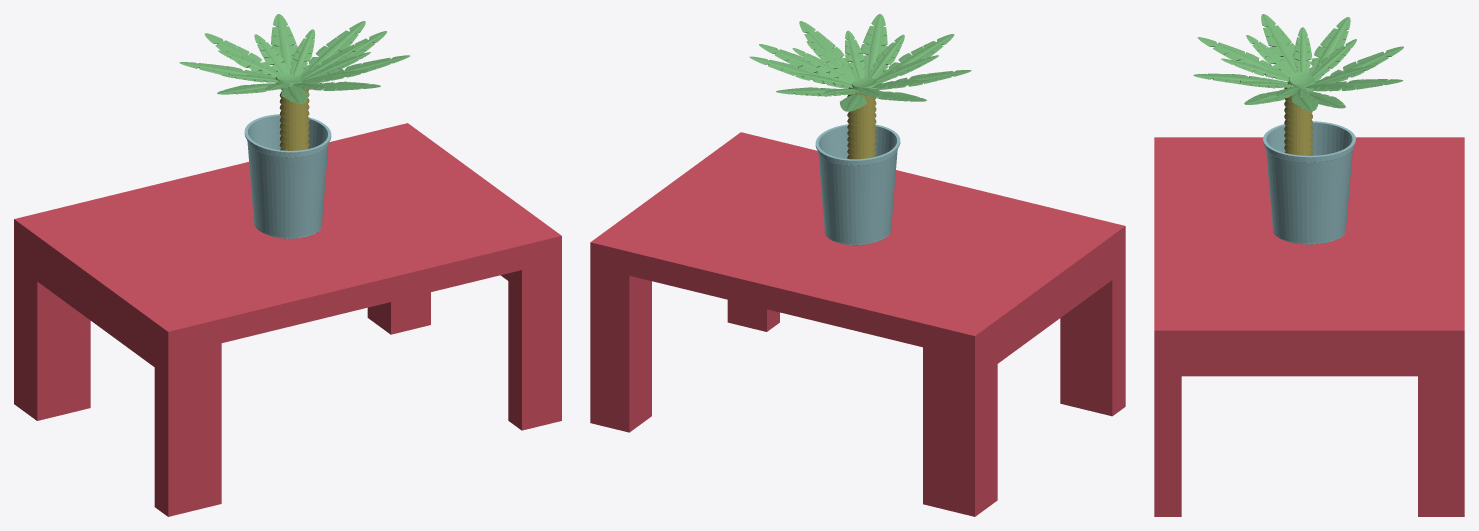
The model's file is C148 table and flower.glb.
3 renders of one model, left to right at view 1: azimuth 30°, elevation 25°; view 2: azimuth 150°, elevation 25°; view 3: azimuth 270°, elevation 25°, orthographic. The views are drawn at different scales.
Visible parts, largest first — view 1: Mesh_Mesh_head_geo.001_lambert2SG.001; view 2: Mesh_Mesh_head_geo.001_lambert2SG.001; view 3: Mesh_Mesh_head_geo.001_lambert2SG.001.
Part boxes in pixels (x1,y1,x2,y2): Mesh_Mesh_head_geo.001_lambert2SG.001: [14, 14, 561, 516]; Mesh_Mesh_head_geo.001_lambert2SG.001: [590, 14, 1125, 516]; Mesh_Mesh_head_geo.001_lambert2SG.001: [1154, 14, 1464, 516].
Size of the model in its own units: 118 by 103 by 80.
